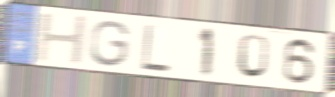0: (234, 32, 271, 81)
1: (194, 26, 215, 79)
6: (282, 37, 318, 87)
G: (88, 19, 132, 69)
H: (34, 12, 90, 66)
L: (139, 21, 172, 74)
